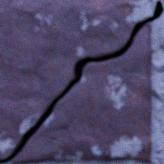broken_brick: (0, 0, 152, 158), (10, 22, 151, 163)
crack: (0, 0, 163, 163)
